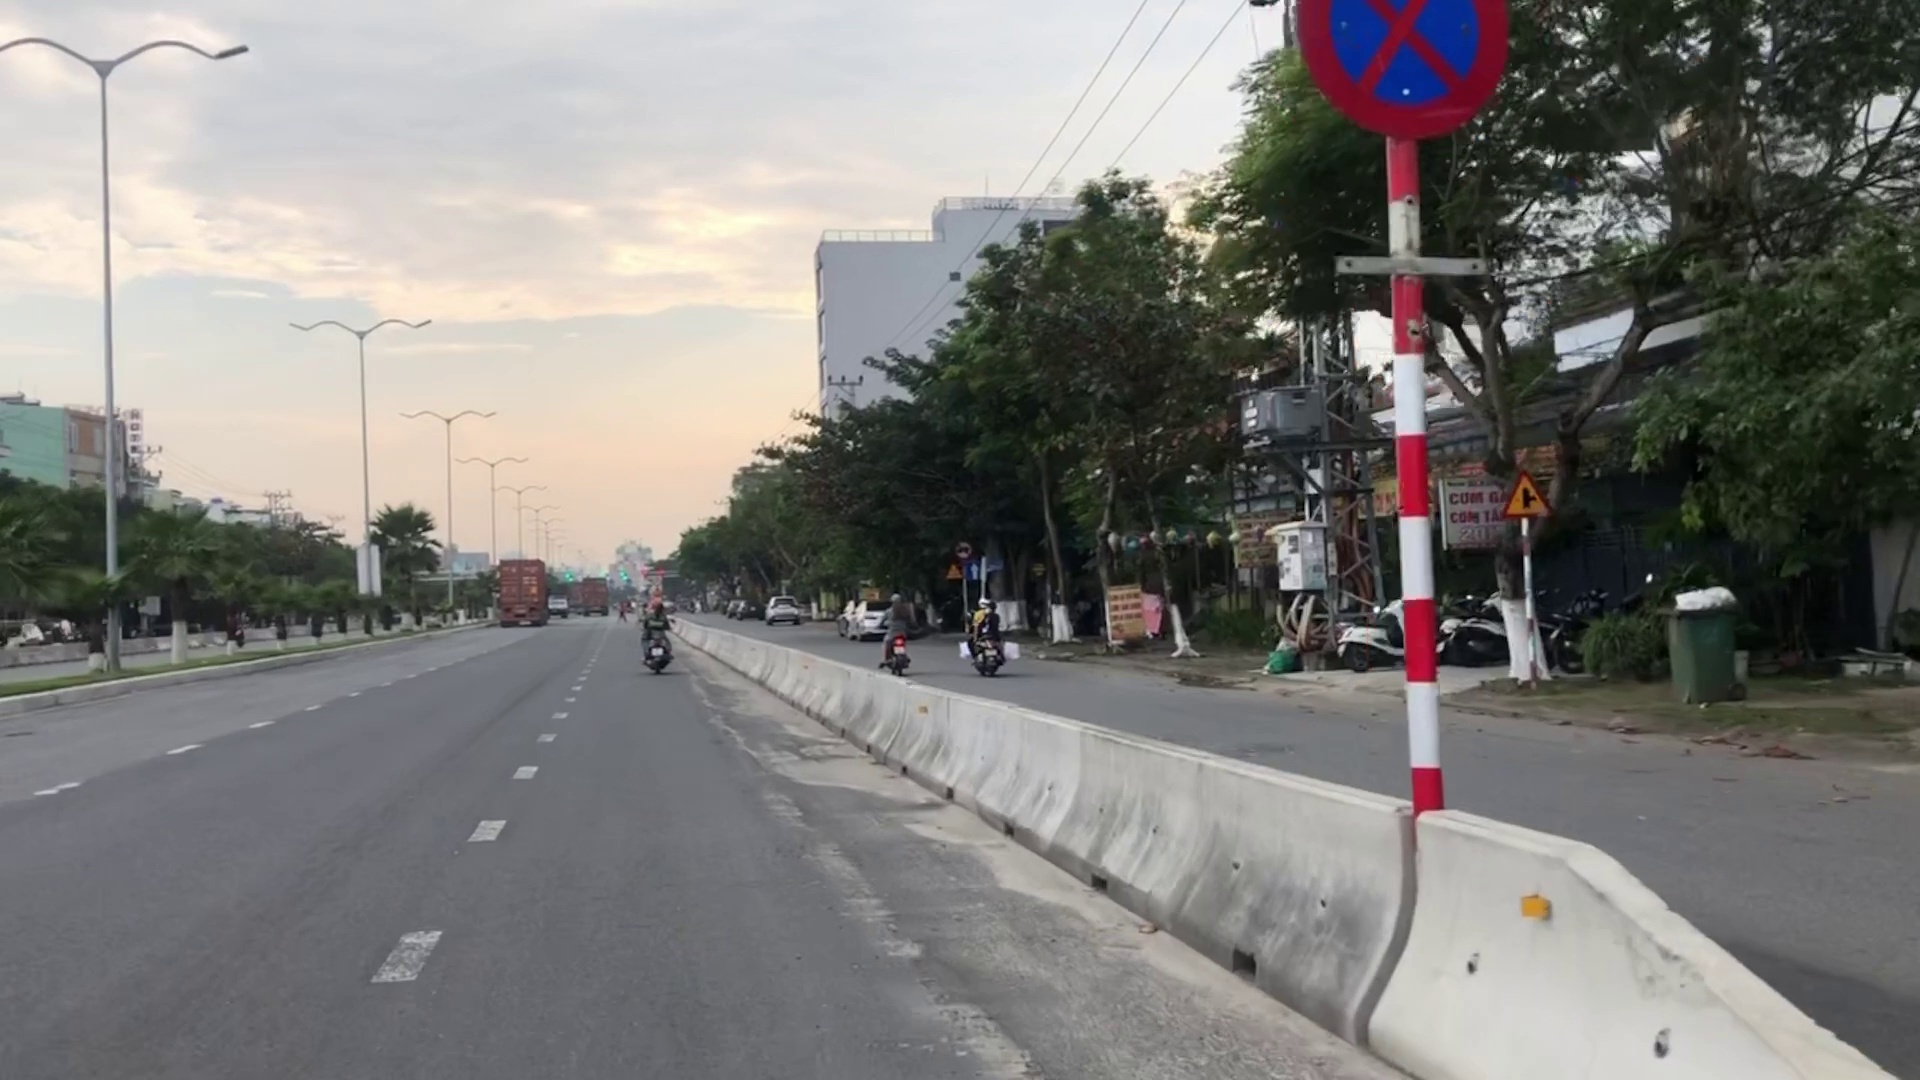Bien khac: (1290, 3, 1510, 133)
Giao nhau voi duong khong uu tien: (1502, 468, 1552, 524)
